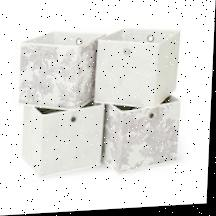cube: (94, 26, 183, 108), (16, 31, 99, 112), (103, 98, 182, 176), (20, 106, 103, 179)
